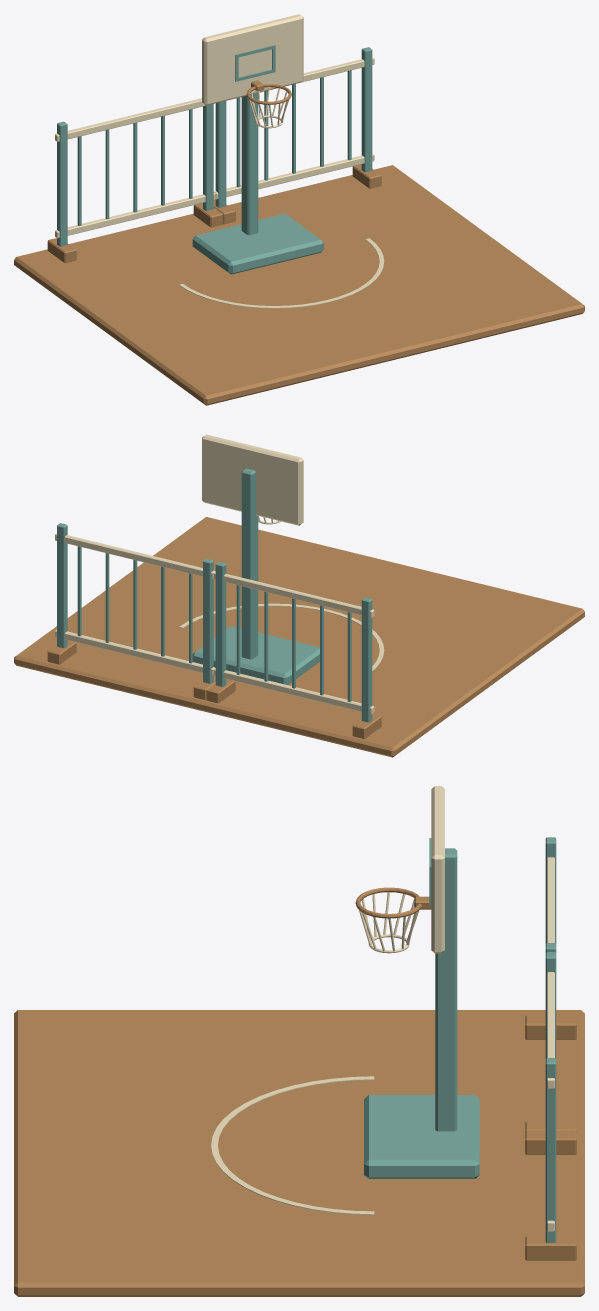
The picture shows the model from 3 angles, top to bottom: view 1: azimuth 30°, elevation 25°; view 2: azimuth 150°, elevation 25°; view 3: azimuth 270°, elevation 25°; orthographic projection. The views are drawn at different scales.
Visible parts, largest first — view 1: sports-practice-corner-scene-01; view 2: sports-practice-corner-scene-01; view 3: sports-practice-corner-scene-01.
Part boxes in pixels (x1=…): sports-practice-corner-scene-01: x1=14, y1=14, x2=584, y2=405; sports-practice-corner-scene-01: x1=14, y1=434, x2=584, y2=757; sports-practice-corner-scene-01: x1=14, y1=786, x2=584, y2=1296.
Size of the model in its own units: 4.8 by 2.76 by 4.2.
